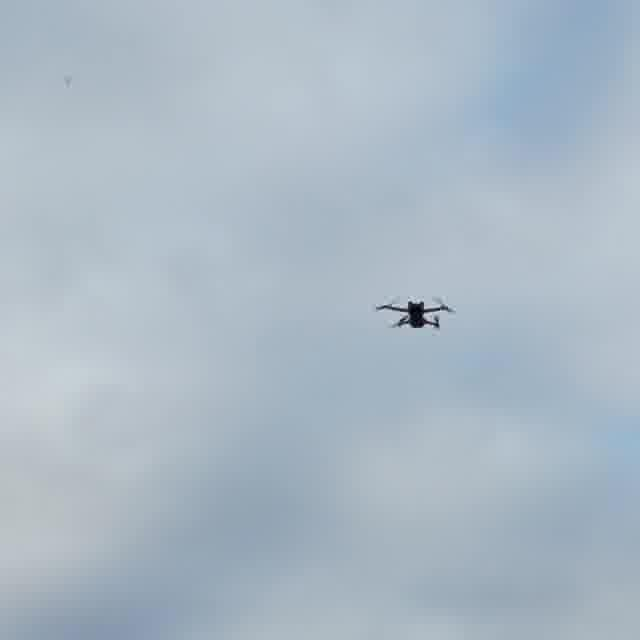Drohne: (376, 300, 454, 328)
